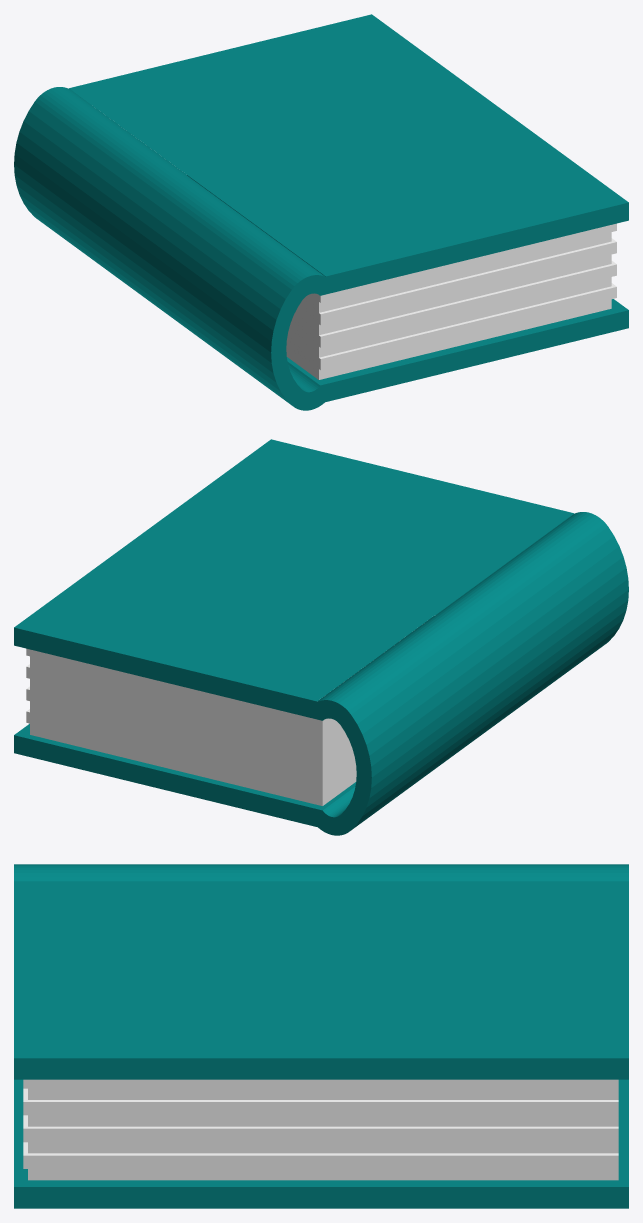
The picture shows the model from 3 angles, top to bottom: view 1: azimuth 30°, elevation 25°; view 2: azimuth 150°, elevation 25°; view 3: azimuth 270°, elevation 25°; orthographic projection. The views are drawn at different scales.
Visible parts, largest first — view 1: livro book; view 2: livro book; view 3: livro book.
Boxes of the visible parts, x1,y1,x2,y2 form: livro book: [14, 14, 628, 410]; livro book: [14, 439, 628, 835]; livro book: [14, 864, 628, 1208].
Size of the model in its own units: 98.05 by 35.16 by 122.
